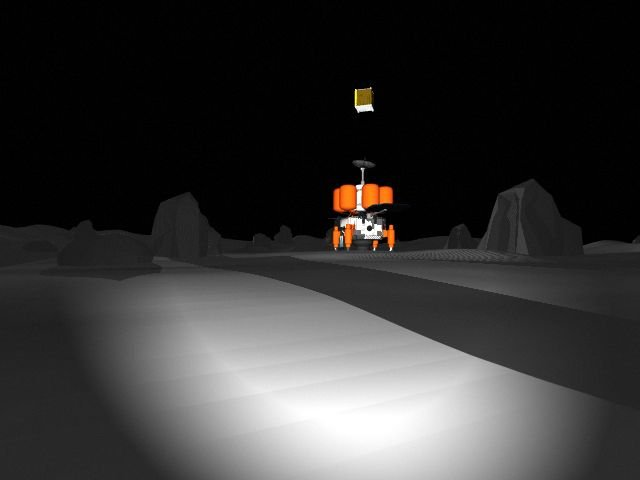cubesat: (347, 80, 388, 115)
